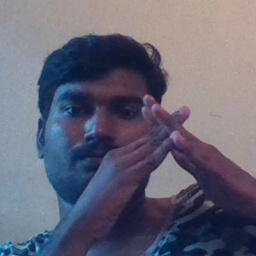W: (121, 77, 226, 197)
